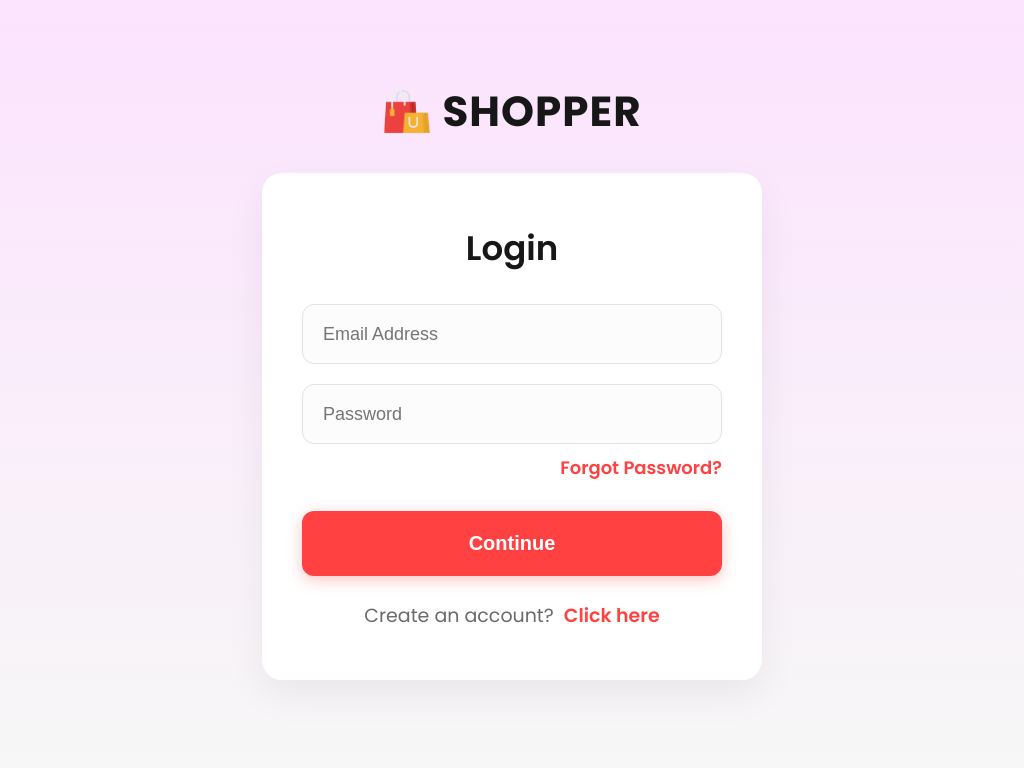
Test case: LoginSignup Component › forgot password mode sends reset link correctly
This screenshot has width=1024, height=768.
Click the text "Forgot Password?": (641, 468) [560,455,722,480]
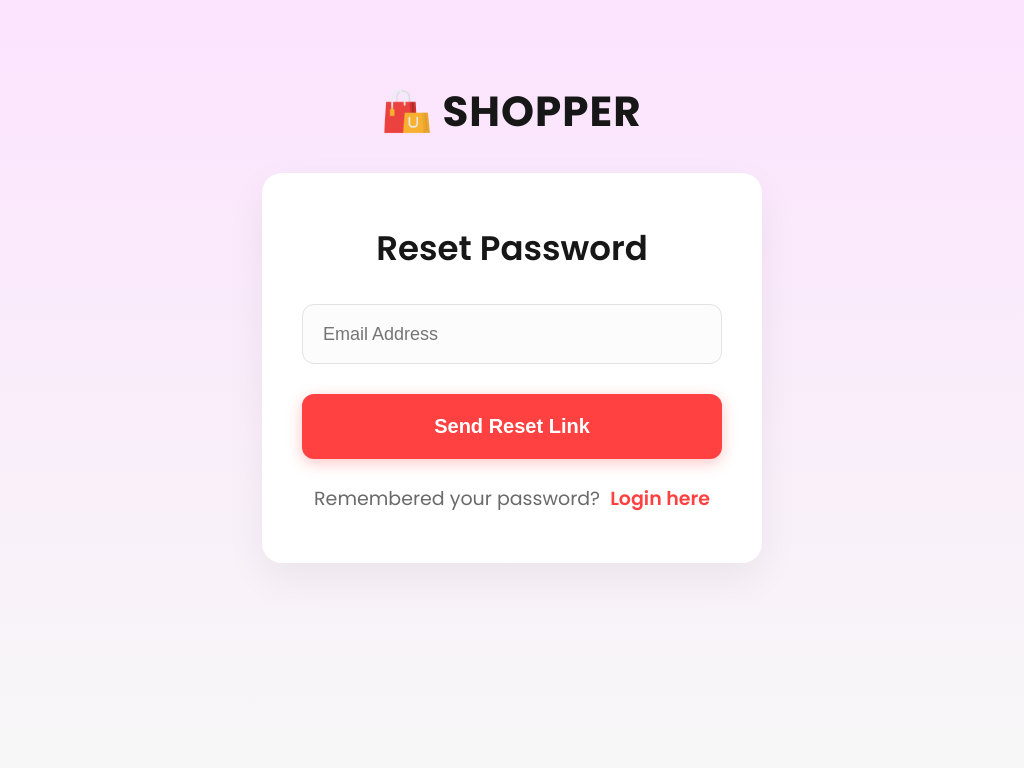
In the field with placeholder "Email Address": (512, 334) [302,304,722,364], type "reset@test.com"
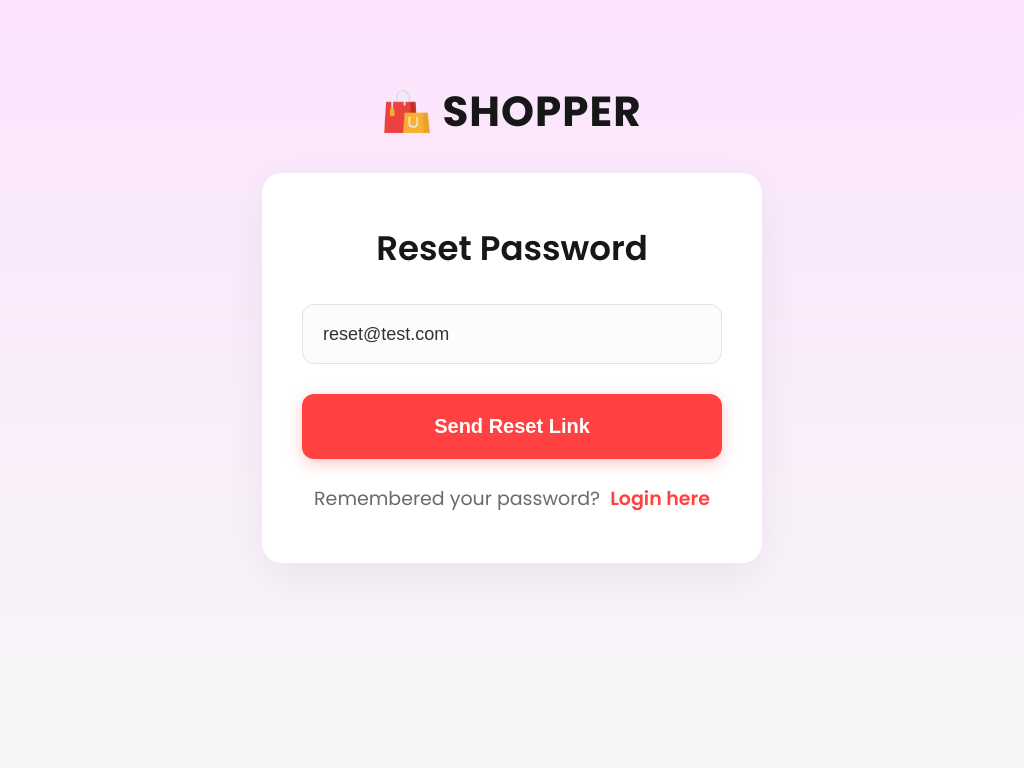
Click the button "Send Reset Link": (512, 426) [302,394,722,459]
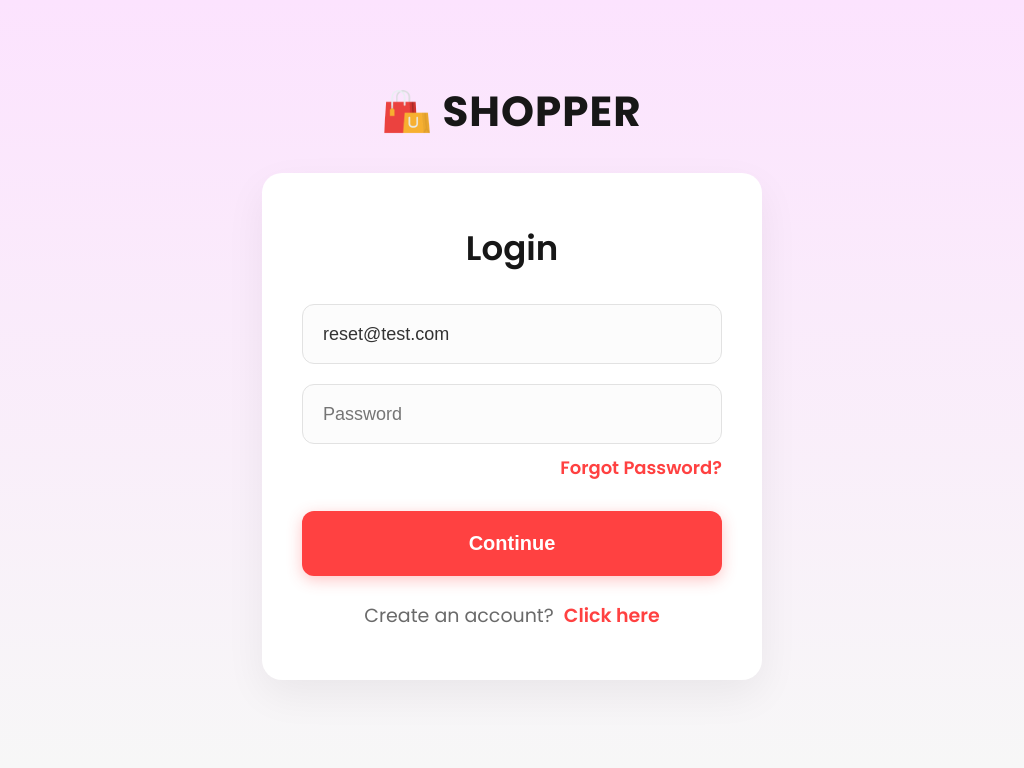
Result: the heading "Login" is shown at [466,224,558,272]
